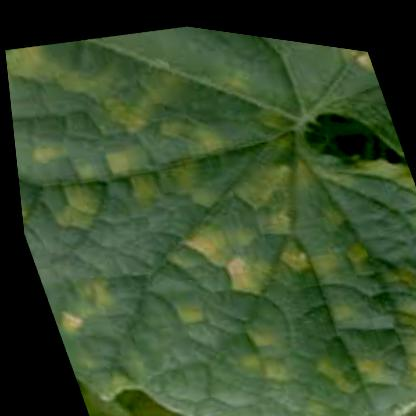DownyMildew: (7, 94, 415, 415), (0, 0, 343, 302), (226, 25, 409, 189)
